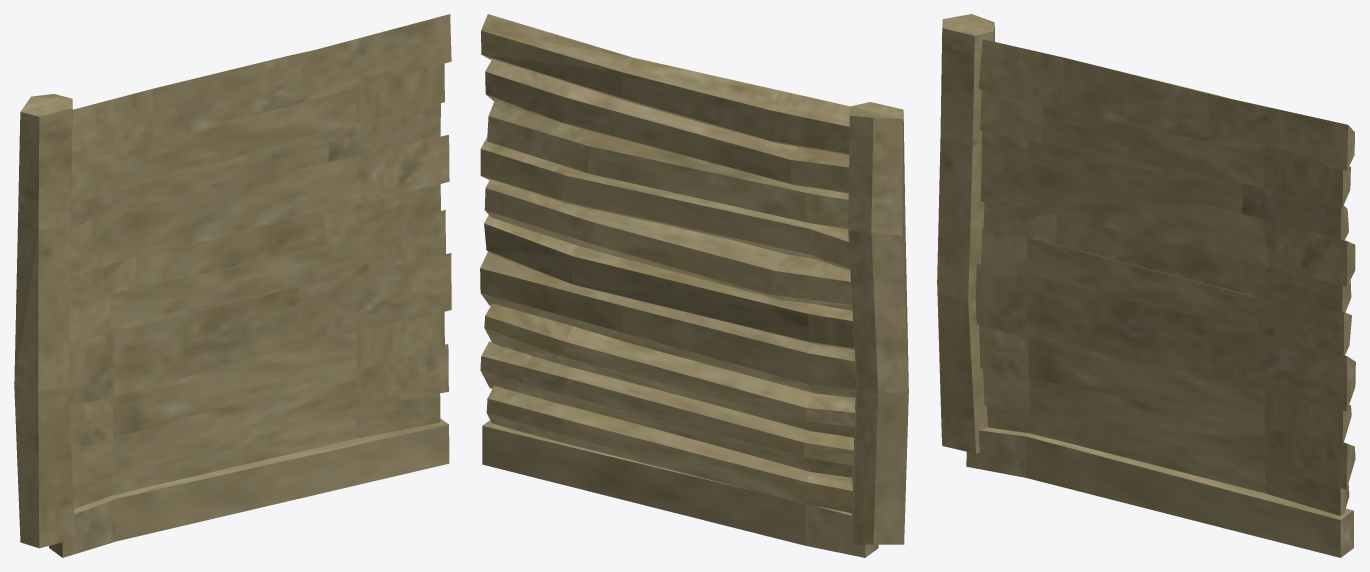
The model's file is sandWall.obj.
3 renders of one model, left to right at view 1: azimuth 30°, elevation 25°; view 2: azimuth 150°, elevation 25°; view 3: azimuth 330°, elevation 25°, orthographic. The views are drawn at different scales.
Parts seen in each view (by area): view 1: sandWall; view 2: sandWall; view 3: sandWall.
Part boxes in pixels (x1,y1,x2,y2): sandWall: (14, 14, 451, 557); sandWall: (480, 14, 908, 557); sandWall: (937, 14, 1355, 557).
Size of the model in its own units: 1 by 1 by 0.1.
Materials: 1 (1 with a texture image).
